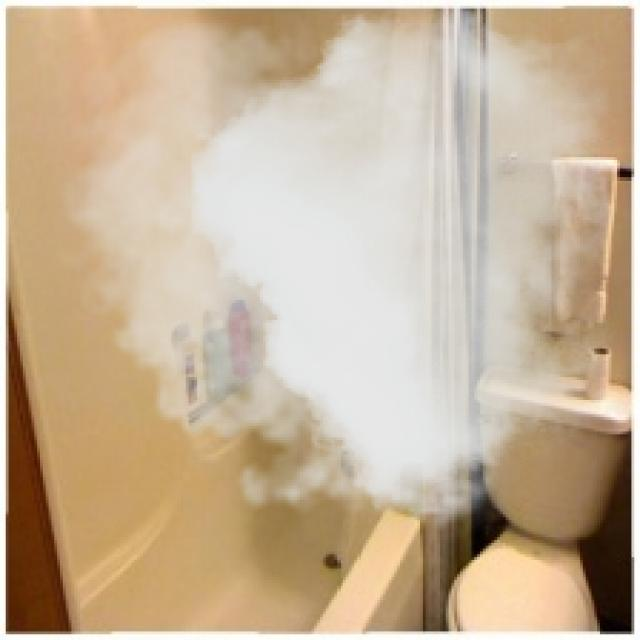smoke: (43, 6, 608, 546)
